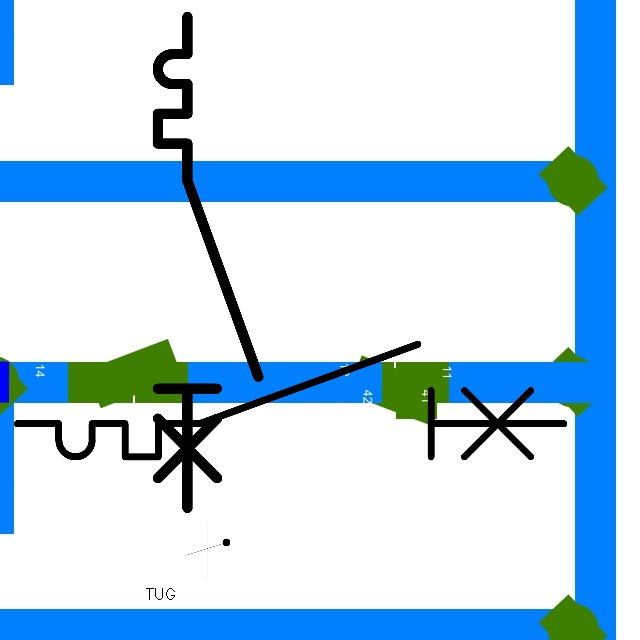interruptor_termomagnetico: (3, 330, 578, 471), (145, 4, 271, 520)
